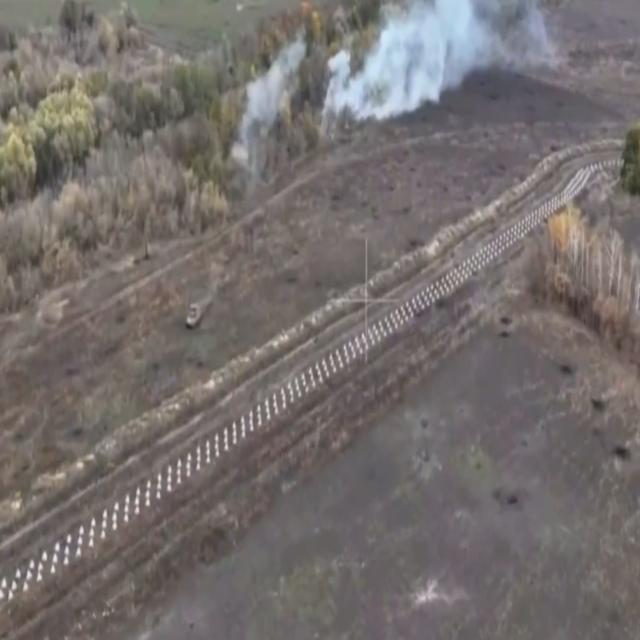vehicle: (185, 300, 202, 329)
